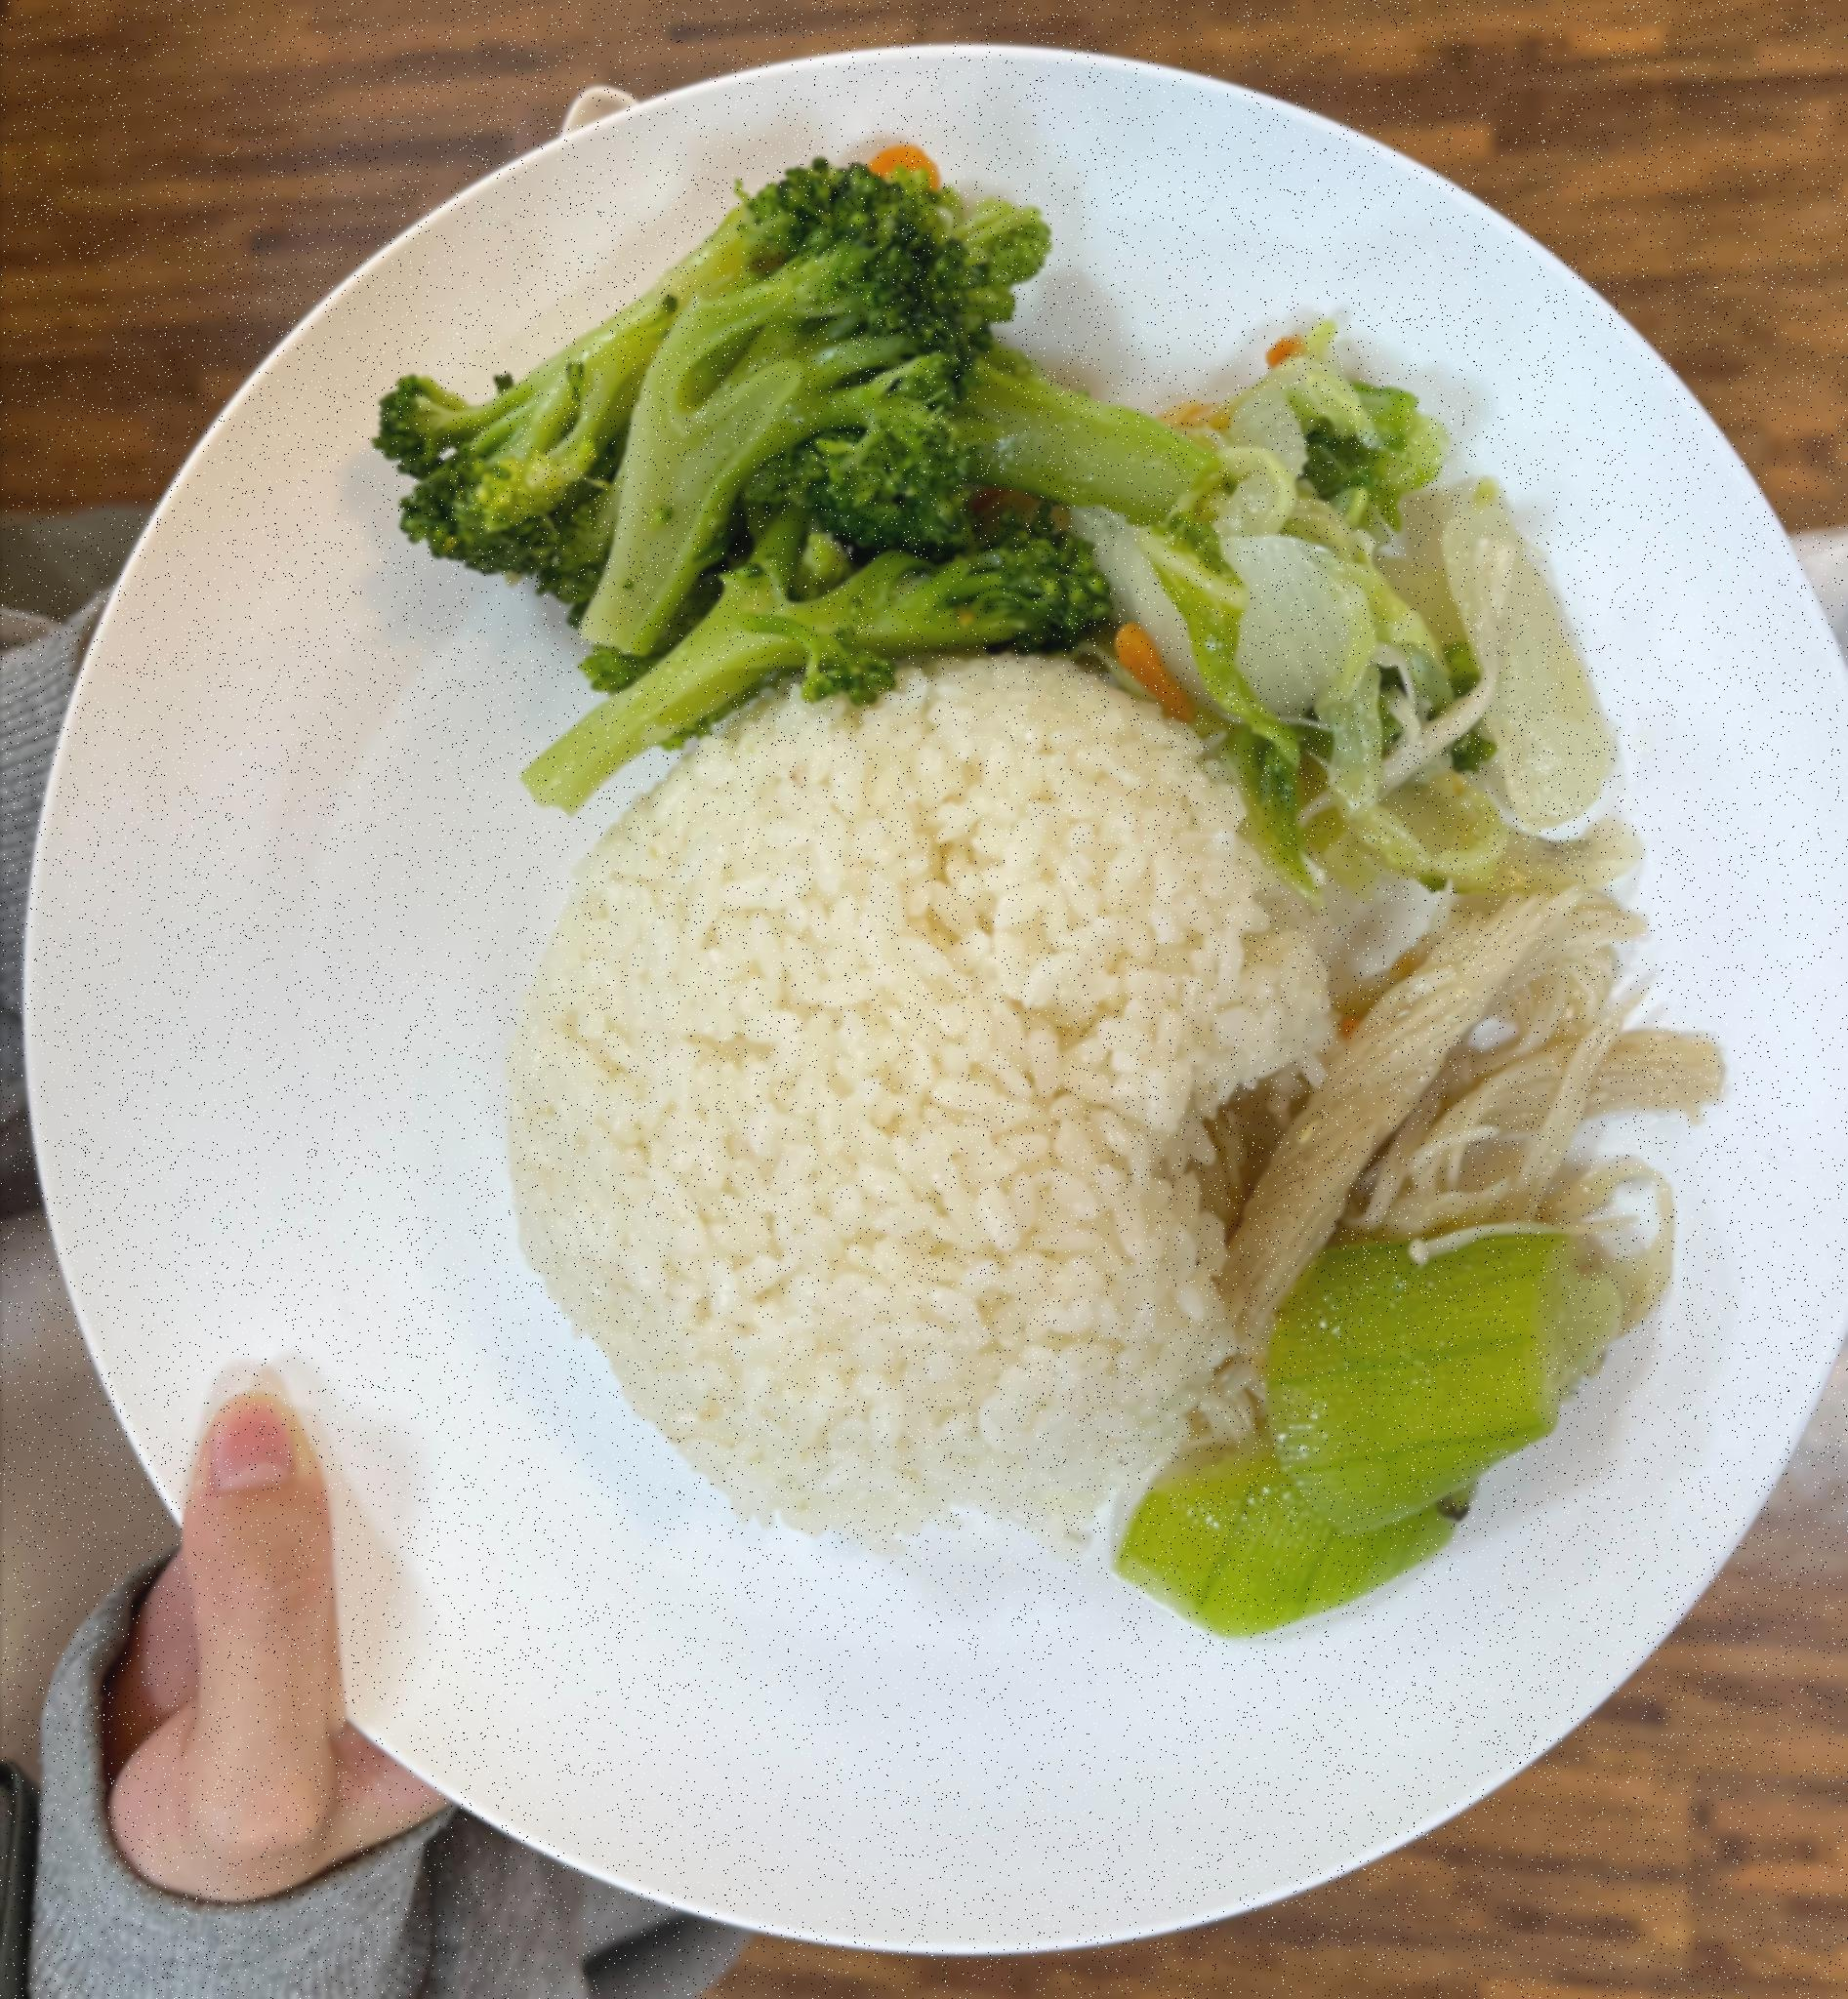plate: (26, 38, 1817, 1952)
side dish: (399, 124, 1106, 789), (1139, 252, 1615, 871), (1122, 1212, 1651, 1668), (1224, 869, 1693, 1257)
white rice: (509, 630, 1327, 1546)
